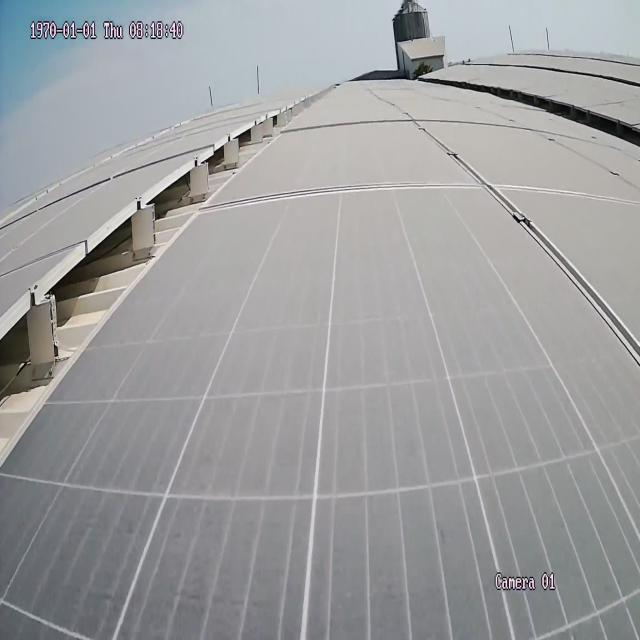interior panel: (406, 120, 640, 378)
outher panel: (1, 90, 321, 461), (461, 78, 640, 150)
